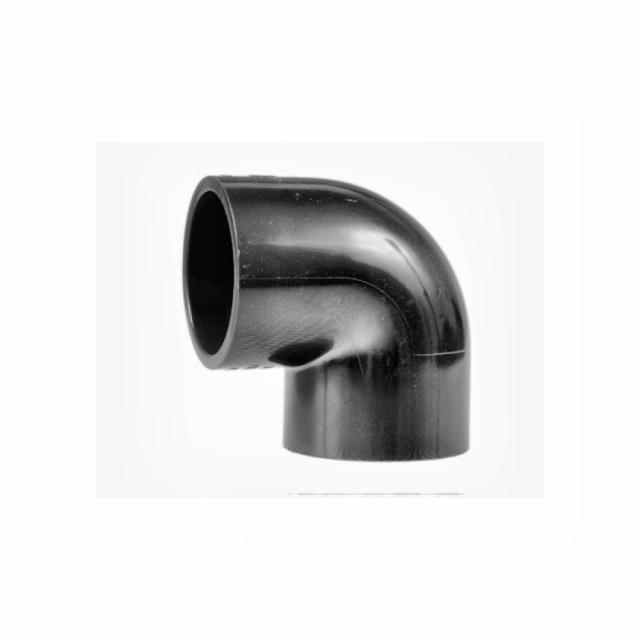ELBOW90: (180, 175, 473, 465)
